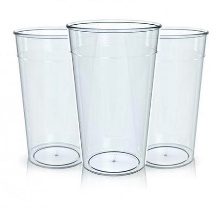glass: (65, 13, 164, 178), (7, 23, 97, 169), (135, 22, 216, 171)
